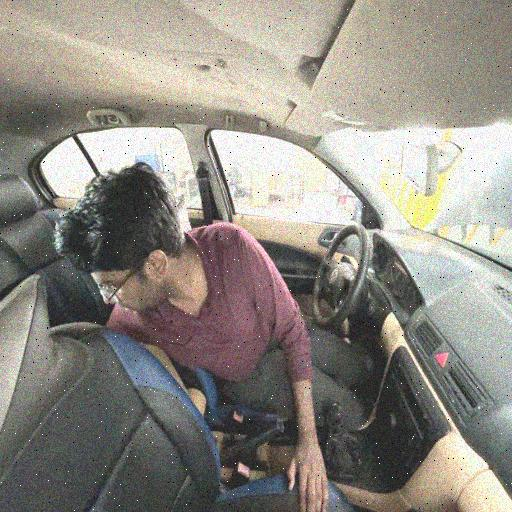Reaching_behind: (52, 159, 350, 454)
